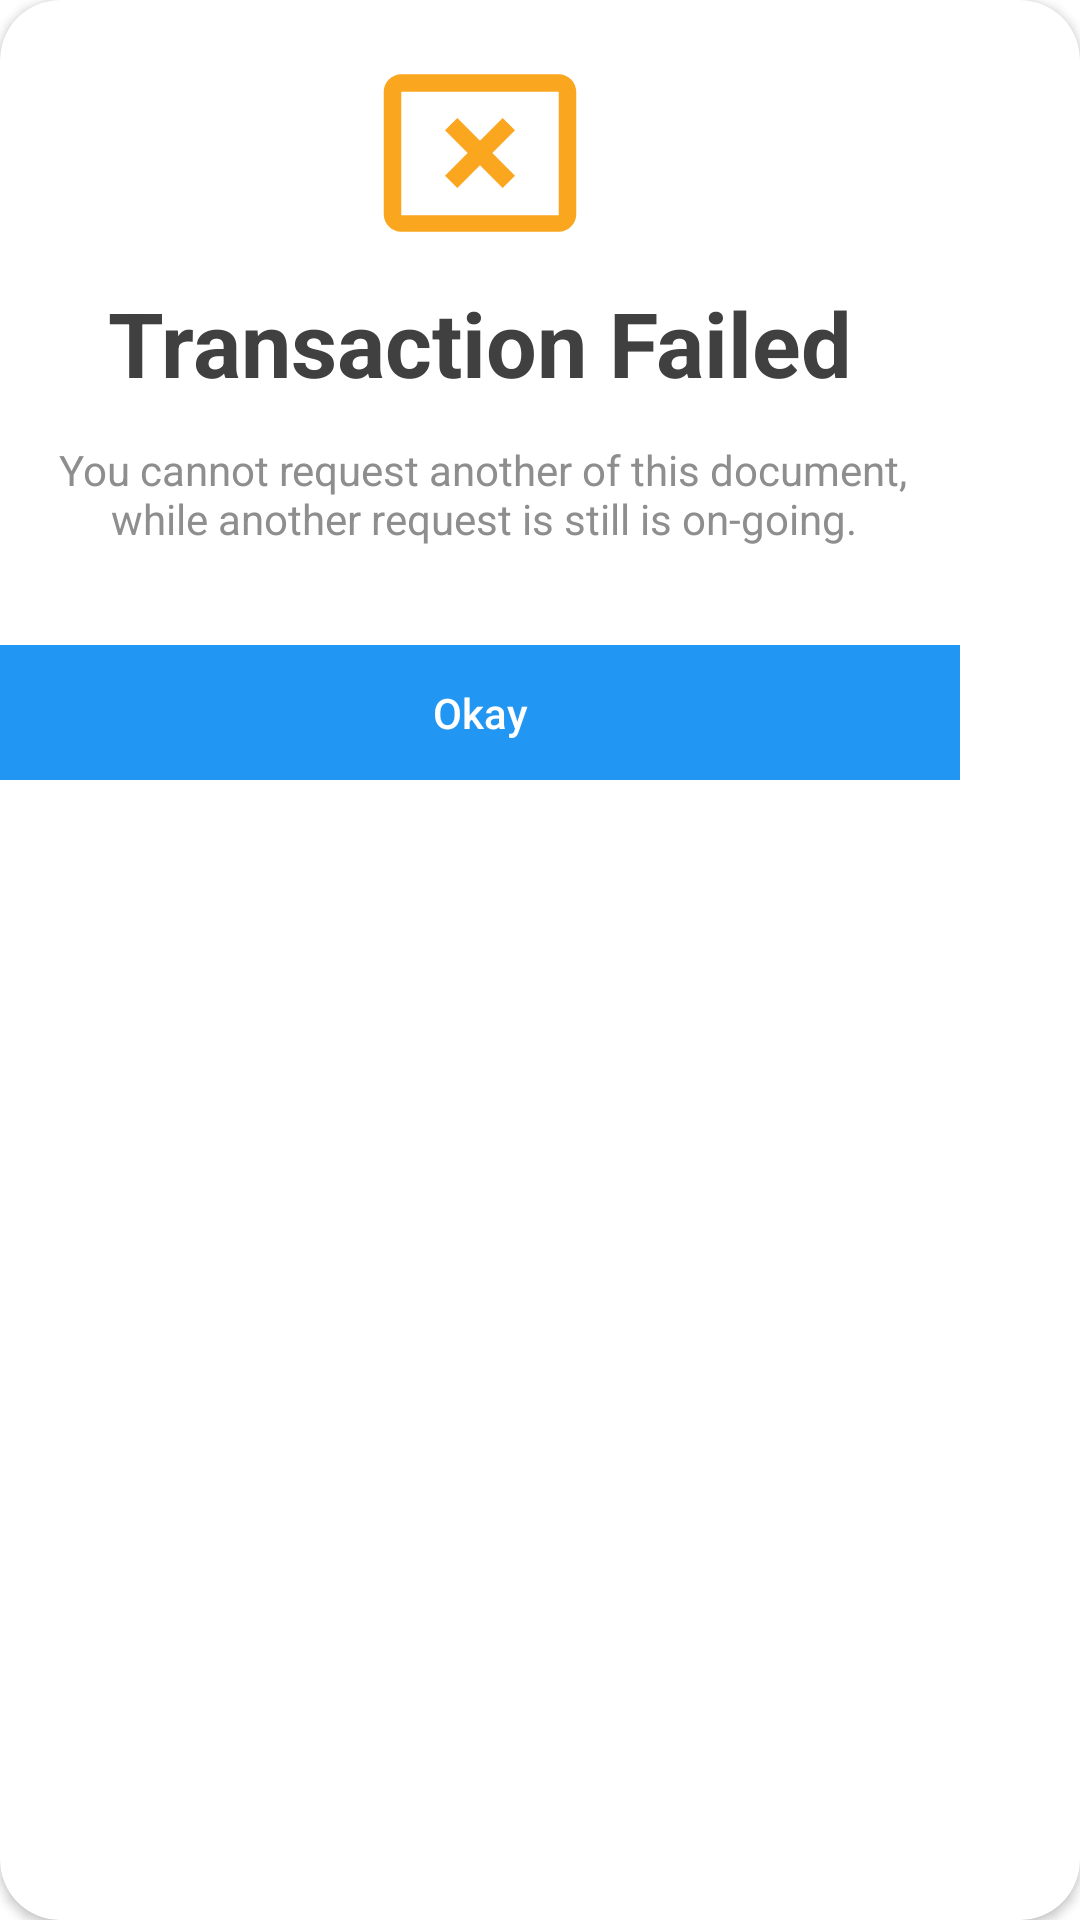

Where icons sit on this 1080px x 1920px app screen, as (x1, y1, x2, y2):
cancel presentation: (383, 74, 577, 232)
